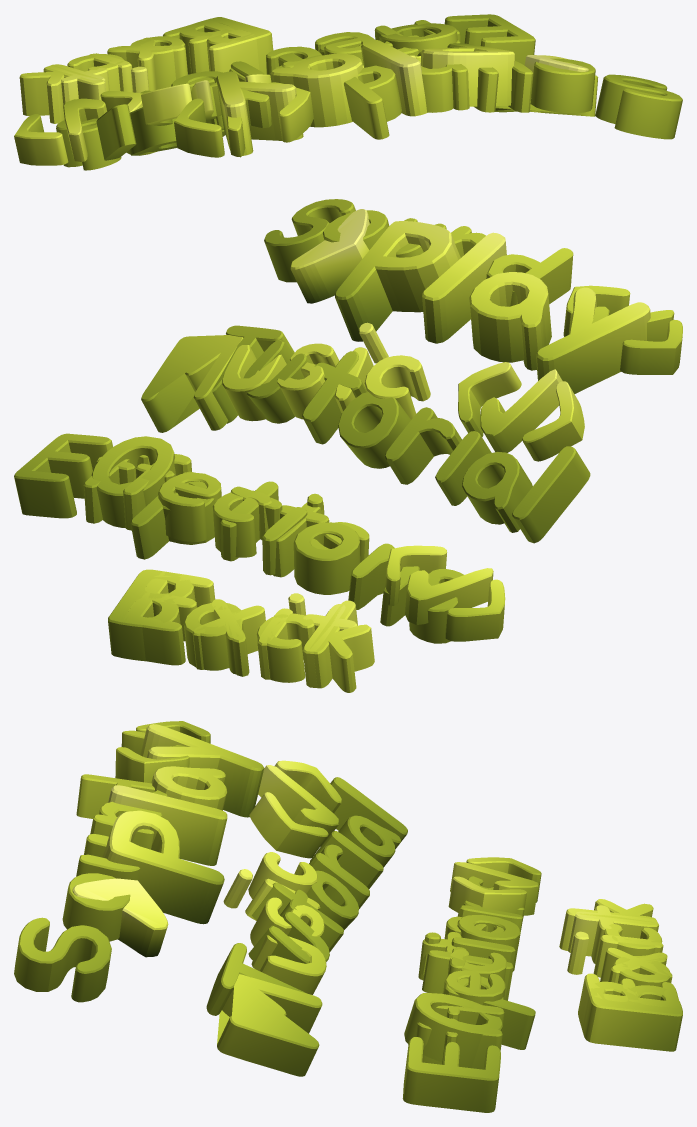
The model's file is Start Menu.fbx.
The picture shows the model from 3 angles, top to bottom: view 1: azimuth 30°, elevation 25°; view 2: azimuth 150°, elevation 25°; view 3: azimuth 270°, elevation 25°; orthographic projection. The views are drawn at different scales.
Visible parts, largest first — view 1: Sound_Master, Play, Check_checked (×3), Back, Exit, Sound_Effects, Options, Tutorial, Sound_Music; view 2: Play, Tutorial, Check_checked (×3), Options, Sound_Effects, Sound_Music, Back, Exit, Sound_Master; view 3: Play, Sound_Music, Check_checked (×3), Tutorial, Sound_Master, Options, Sound_Effects, Back, Exit.
Part boxes in pixels (x1,y1,x2,y2): Sound_Master: [344, 58, 682, 139]; Play: [216, 40, 588, 155]; Check_checked (×3): [14, 74, 313, 165]; Back: [19, 17, 273, 123]; Exit: [48, 20, 259, 106]; Sound_Effects: [189, 14, 535, 86]; Options: [56, 23, 457, 170]; Tutorial: [96, 52, 558, 160]; Sound_Music: [362, 55, 598, 116]; Play: [290, 209, 650, 393]; Tutorial: [212, 325, 590, 543]; Check_checked (×3): [385, 285, 682, 641]; Options: [91, 436, 463, 643]; Sound_Effects: [14, 433, 369, 593]; Sound_Music: [141, 322, 430, 432]; Back: [108, 569, 374, 692]; Exit: [123, 571, 357, 687]; Sound_Master: [264, 199, 573, 306]; Play: [72, 724, 264, 957]; Sound_Music: [217, 852, 326, 1076]; Check_checked (×3): [115, 721, 541, 920]; Tutorial: [206, 777, 407, 1015]; Sound_Master: [14, 774, 167, 1002]; Options: [404, 876, 535, 1067]; Sound_Effects: [402, 916, 507, 1112]; Back: [559, 899, 682, 1051]; Exit: [567, 905, 679, 1031].
Bounding box in the file's own units: 42.14 × 18.5 × 50.92.
